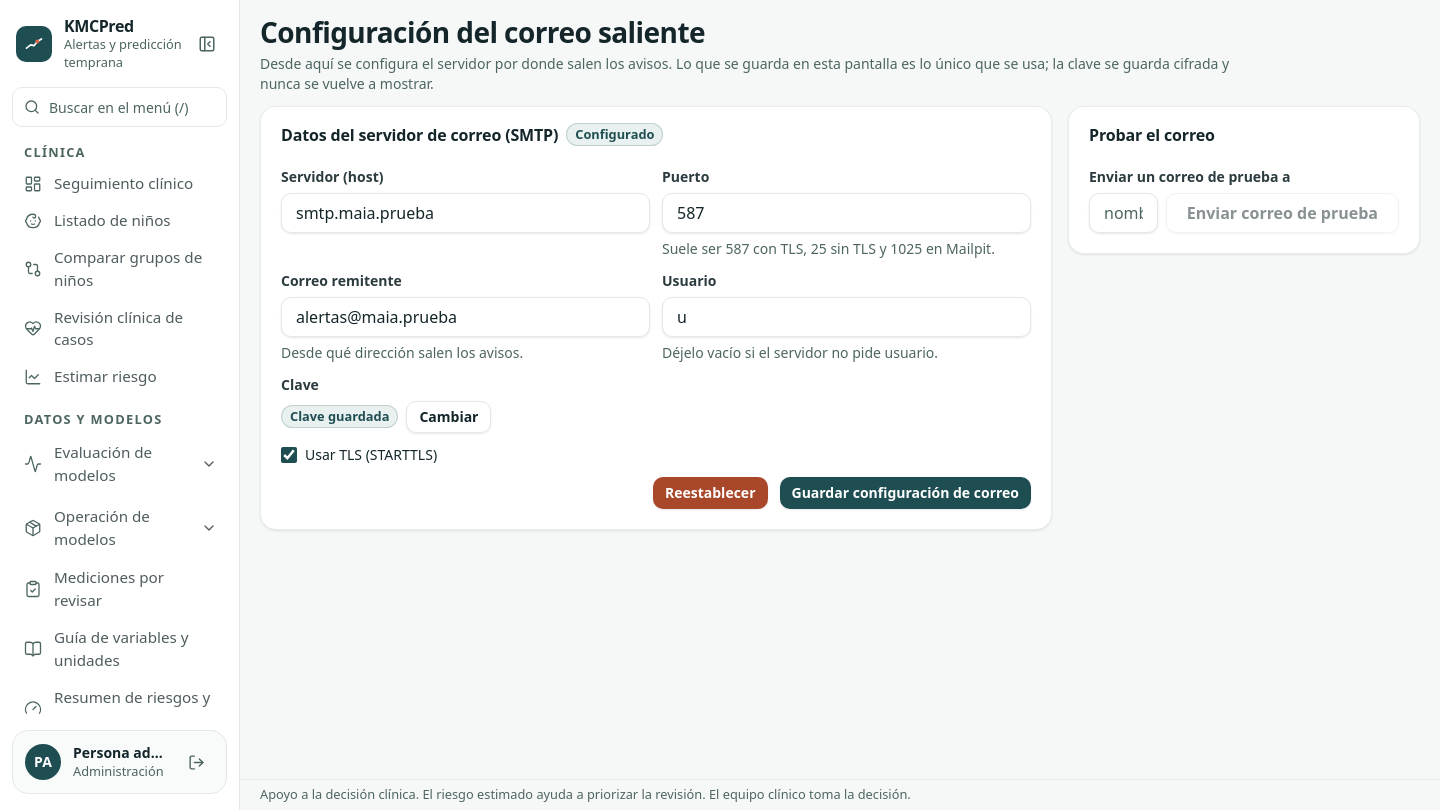
Test: Reestablecer el servidor › aparece si está configurado, pide confirmar y al confirmar borra y vuelve a «Sin configurar»
The image size is (1440, 810).
expect the field showing "smtp.maia.prueba" is shown: met, box [281,193,650,233]
Click the button "Reestablecer" at (710, 493), box [653,477,768,509]
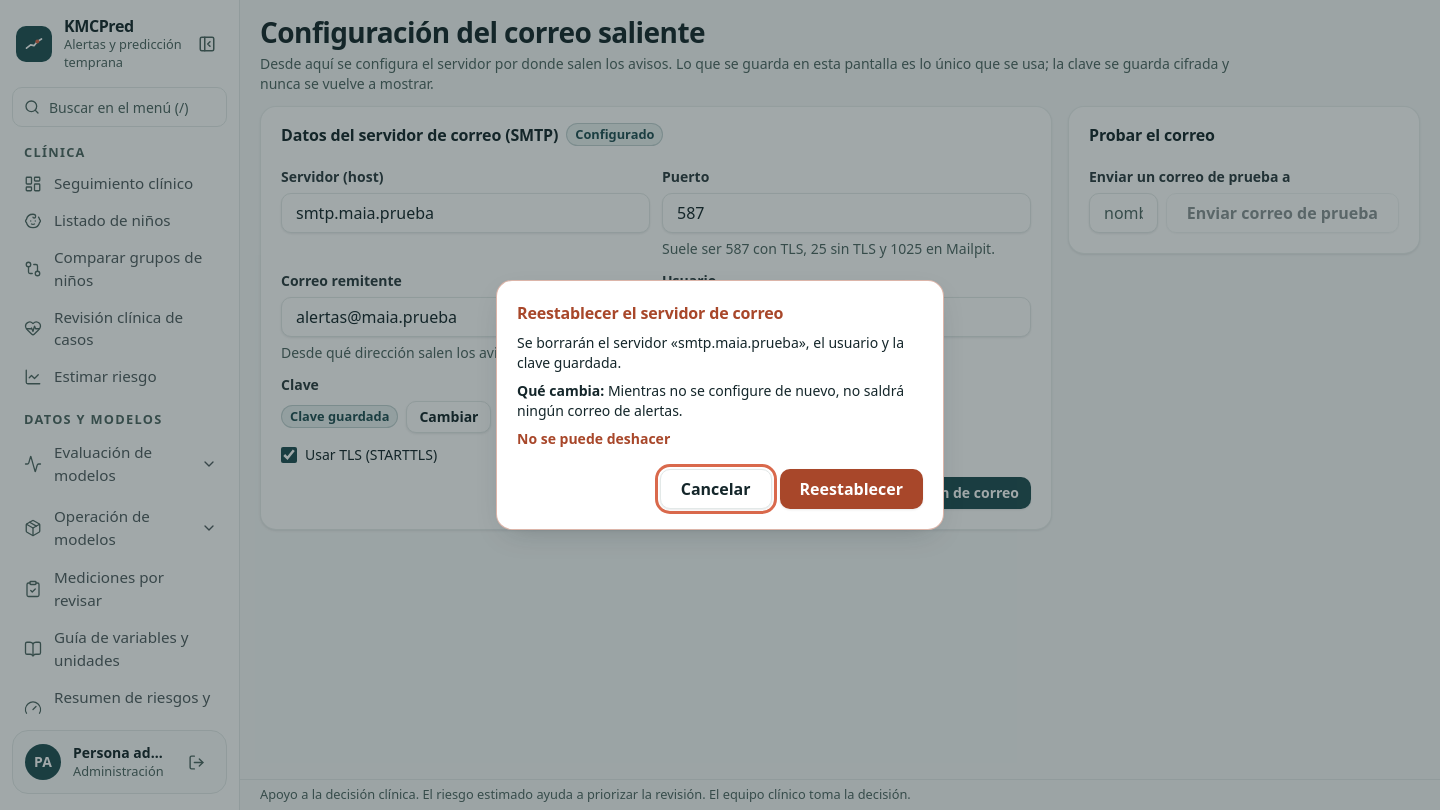
expect the text "No se puede deshacer" is shown: met, box [517,429,670,448]
expect the text "no saldrá ningún correo de alertas" is shown: met, box [517,381,904,420]
Click the button "Reestablecer" at (851, 489), box [780,469,923,509]
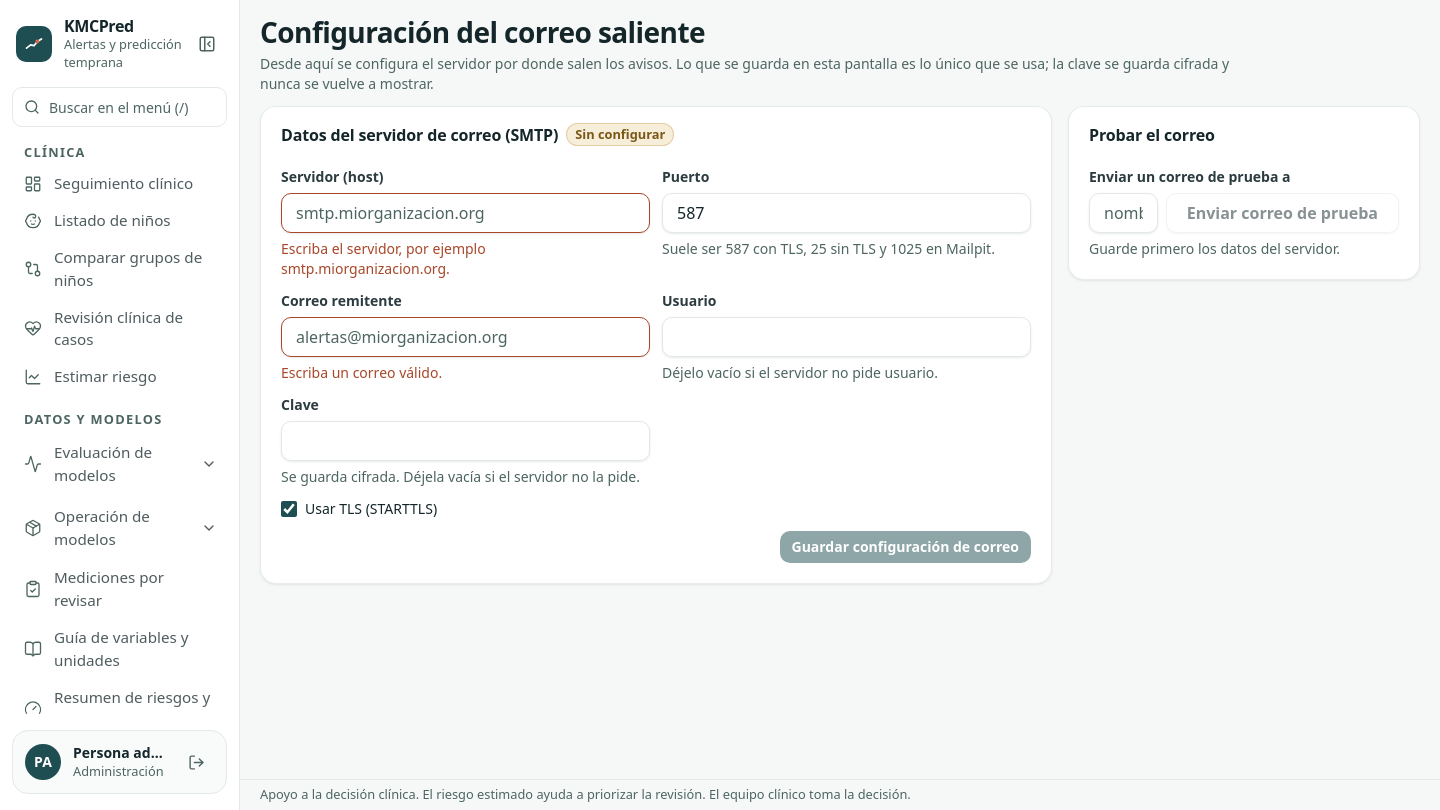
expect the text "Sin configurar" is shown: met, box [566,123,674,146]
expect the field labelled "Servidor (host)" is empty: met, box [281,193,650,233]
expect the field labelled "Correo remitente" is empty: met, box [281,317,650,357]
